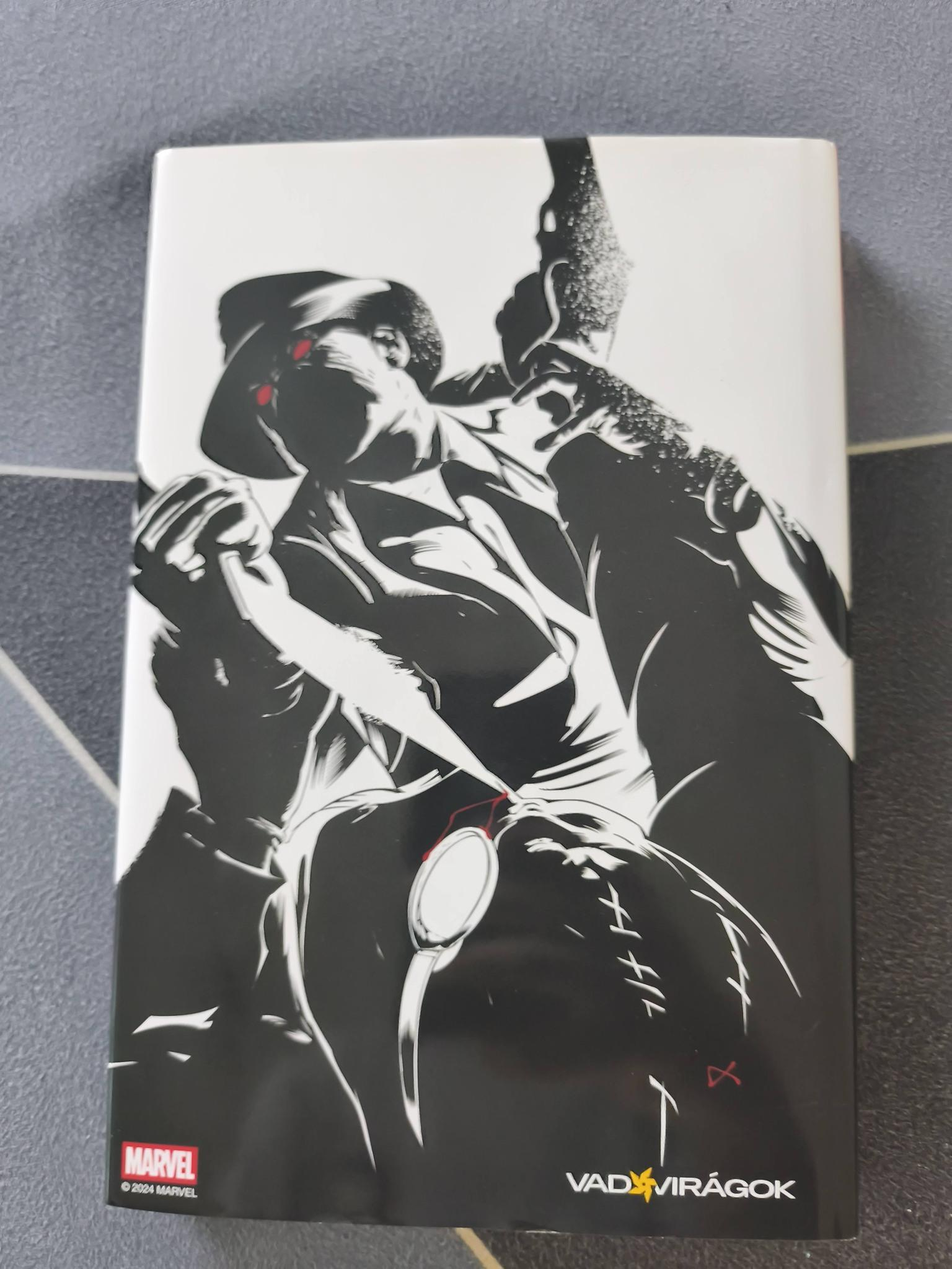comic: (108, 131, 870, 1238)
